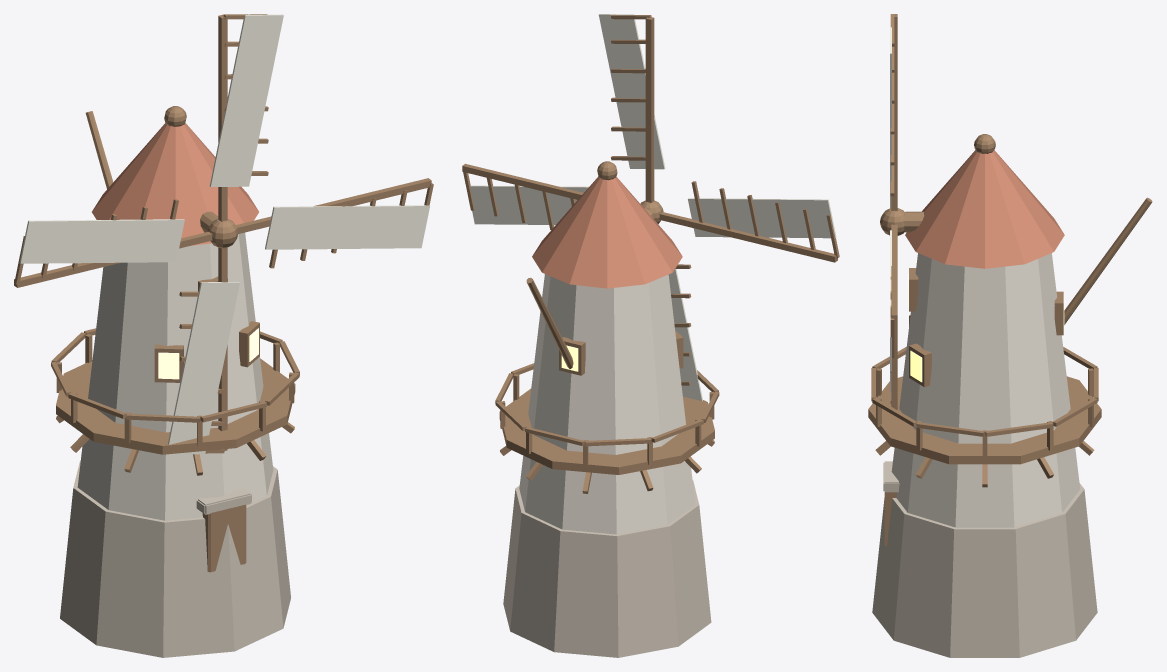
Rendered from windmill.glb.
The picture shows the model from 3 angles, left to right: view 1: azimuth 30°, elevation 25°; view 2: azimuth 150°, elevation 25°; view 3: azimuth 270°, elevation 25°; orthographic projection. The views are drawn at different scales.
Parts seen in each view (by area): view 1: WindmillTower, WindmillBlades; view 2: WindmillTower, WindmillBlades; view 3: WindmillTower, WindmillBlades.
Boxes of the visible parts, x1=… form: WindmillTower: x1=51, y1=106, x2=299, y2=657; WindmillBlades: x1=14, y1=14, x2=433, y2=454; WindmillTower: x1=495, y1=161, x2=719, y2=657; WindmillBlades: x1=462, y1=14, x2=839, y2=400; WindmillTower: x1=868, y1=134, x2=1152, y2=657; WindmillBlades: x1=880, y1=14, x2=904, y2=409.
Size of the model in its own units: 17.54 by 25.22 by 10.85.
